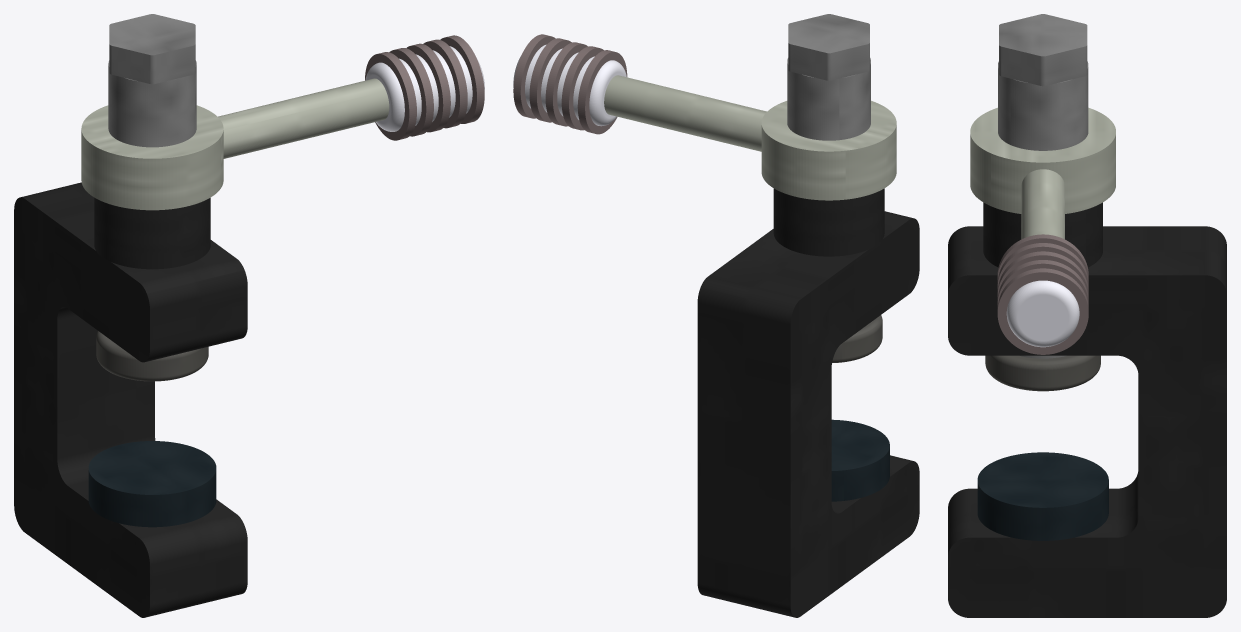
The model's file is Handtools_Clamp__0008.glb.
3 views of the same model, side by side, from view 1: azimuth 30°, elevation 25°; view 2: azimuth 150°, elevation 25°; view 3: azimuth 270°, elevation 25° (orthographic). The views are drawn at different scales.
Parts seen in each view (by area): view 1: frame::frame_body, lever::lever_hub, frame::anvil_pad, lever::lever_arm, screw::screw_core, screw::screw_collar, screw::swivel_pad, lever::lever_grip, lever::grip_ridge_0, lever::grip_ridge_2, lever::grip_ridge_3, lever::grip_ridge_1 (+1 smaller); view 2: frame::frame_body, lever::lever_hub, lever::lever_arm, screw::screw_core, screw::screw_collar, frame::anvil_pad, lever::lever_grip, lever::grip_ridge_0, screw::swivel_pad, lever::grip_ridge_1, lever::grip_ridge_2, lever::grip_ridge_3 (+1 smaller); view 3: frame::frame_body, frame::anvil_pad, lever::lever_hub, screw::screw_core, screw::screw_collar, lever::lever_grip, screw::swivel_pad, lever::lever_arm, lever::grip_ridge_4, lever::grip_ridge_3, lever::grip_ridge_0, lever::grip_ridge_1 (+1 smaller).
Boxes of the visible parts, <box> form: frame::frame_body: <box>14,182,247,617</box>; lever::lever_hub: <box>81,105,223,210</box>; frame::anvil_pad: <box>88,441,216,527</box>; lever::lever_arm: <box>218,78,389,158</box>; screw::screw_core: <box>108,60,196,147</box>; screw::screw_collar: <box>109,14,195,84</box>; screw::swivel_pad: <box>96,331,208,381</box>; lever::lever_grip: <box>365,46,484,131</box>; lever::grip_ridge_0: <box>365,52,416,140</box>; lever::grip_ridge_2: <box>406,43,450,132</box>; lever::grip_ridge_3: <box>423,39,467,128</box>; lever::grip_ridge_1: <box>389,48,433,136</box>; frame::frame_body: <box>697,188,919,617</box>; lever::lever_hub: <box>761,100,896,200</box>; lever::lever_arm: <box>604,75,766,151</box>; screw::screw_core: <box>787,58,870,140</box>; screw::screw_collar: <box>788,14,869,80</box>; frame::anvil_pad: <box>831,419,889,501</box>; lever::lever_grip: <box>513,44,626,126</box>; lever::grip_ridge_0: <box>577,50,627,134</box>; screw::swivel_pad: <box>832,315,882,362</box>; lever::grip_ridge_1: <box>561,46,603,130</box>; lever::grip_ridge_2: <box>545,42,587,126</box>; lever::grip_ridge_3: <box>529,38,571,122</box>; frame::frame_body: <box>948,202,1226,617</box>; frame::anvil_pad: <box>977,452,1108,540</box>; lever::lever_hub: <box>970,107,1115,213</box>; screw::screw_core: <box>998,61,1088,358</box>; screw::screw_collar: <box>999,14,1087,86</box>; lever::lever_grip: <box>1006,280,1079,347</box>; screw::swivel_pad: <box>985,355,1100,391</box>; lever::lever_arm: <box>1021,169,1064,239</box>; lever::grip_ridge_4: <box>997,268,1088,354</box>; lever::grip_ridge_3: <box>997,260,1088,304</box>; lever::grip_ridge_0: <box>997,234,1088,279</box>; lever::grip_ridge_1: <box>997,243,1088,288</box>.
Size of the model in its own units: 0.1235 by 0.1688 by 0.0765.
Materials: 7 (5 with a texture image).
